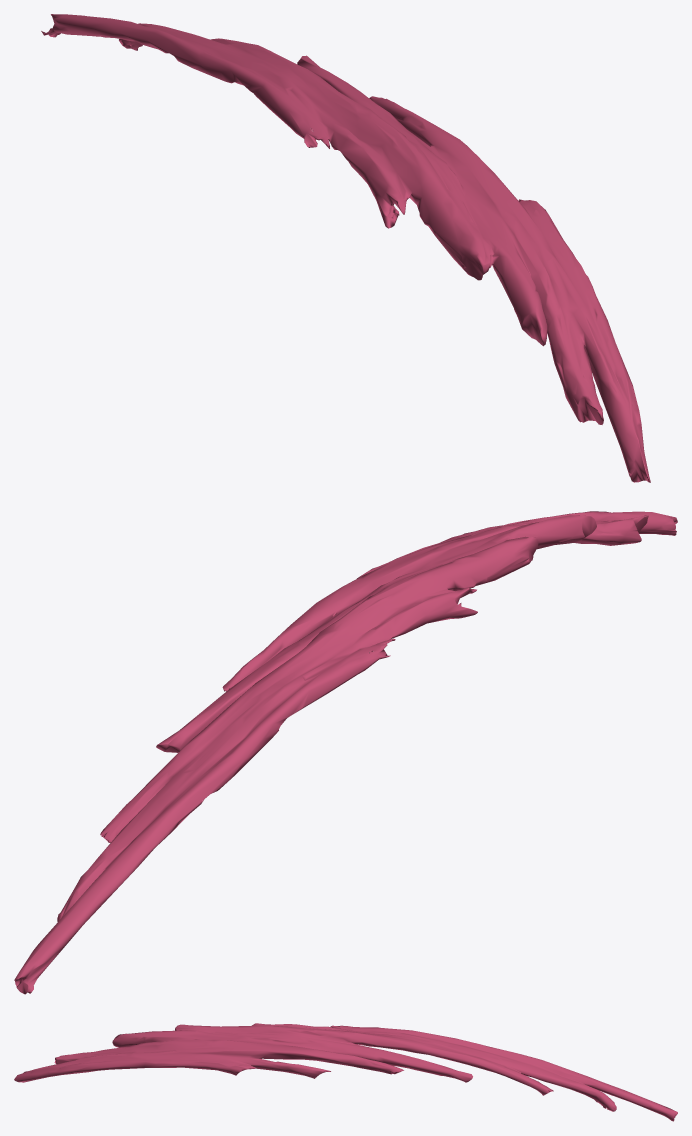
The picture shows the model from 3 angles, top to bottom: view 1: azimuth 30°, elevation 25°; view 2: azimuth 150°, elevation 25°; view 3: azimuth 270°, elevation 25°; orthographic projection. The views are drawn at different scales.
Visible parts, largest first — view 1: 左侧胸半棘肌; view 2: 左侧胸半棘肌; view 3: 左侧胸半棘肌.
Part boxes in pixels (<box>): 左侧胸半棘肌: <box>41,14,650,482</box>; 左侧胸半棘肌: <box>14,511,677,994</box>; 左侧胸半棘肌: <box>14,1023,677,1121</box>.
Size of the model in its own units: 0.0521 by 0.0602 by 0.4145.
